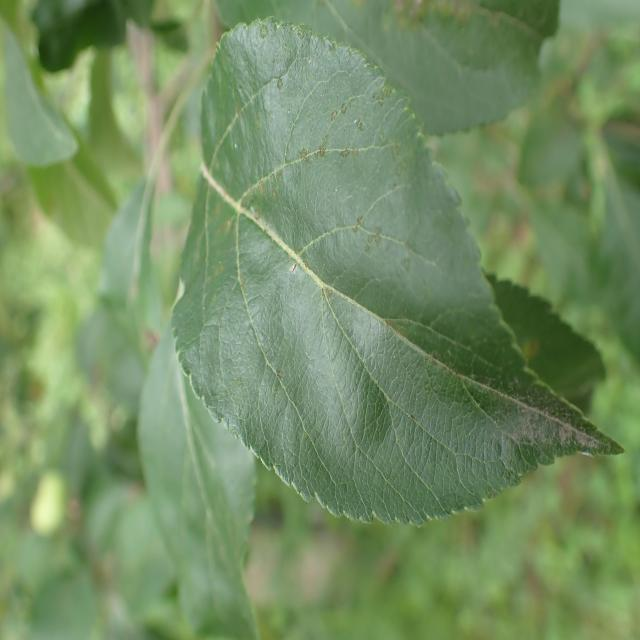scab: (202, 38, 486, 508)
